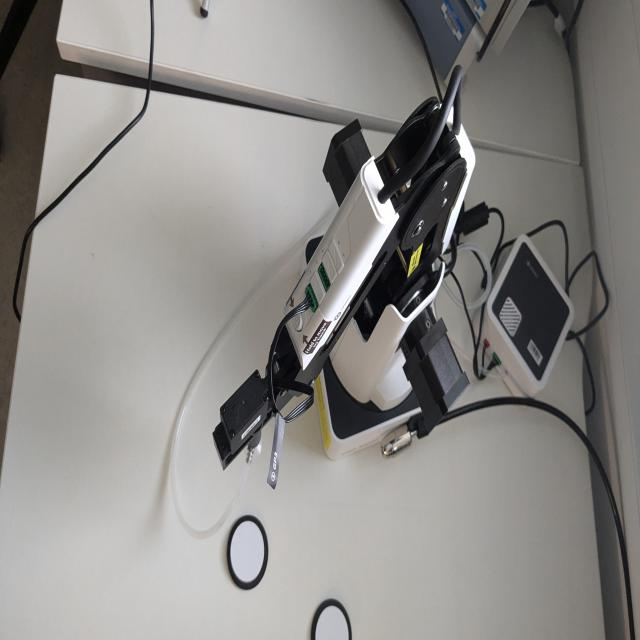Robot-end-effector-HF8z: (208, 366, 273, 474)
